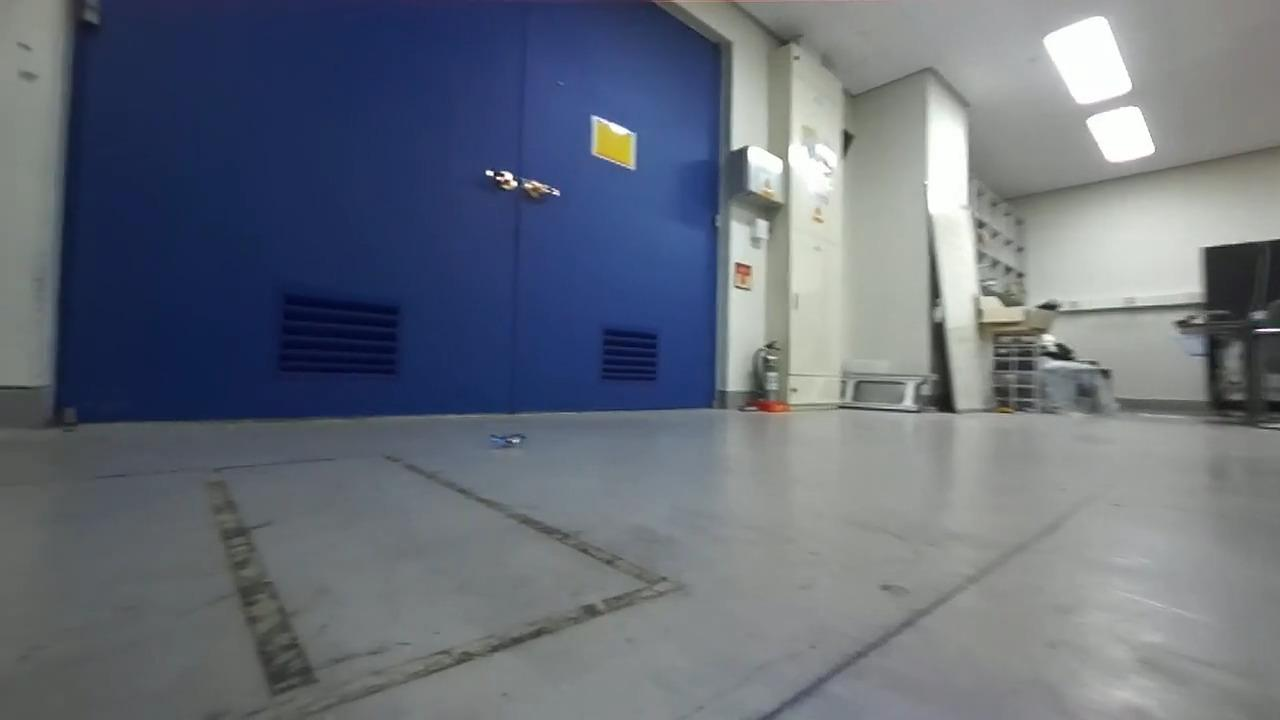crazyflie: (487, 427, 539, 454)
